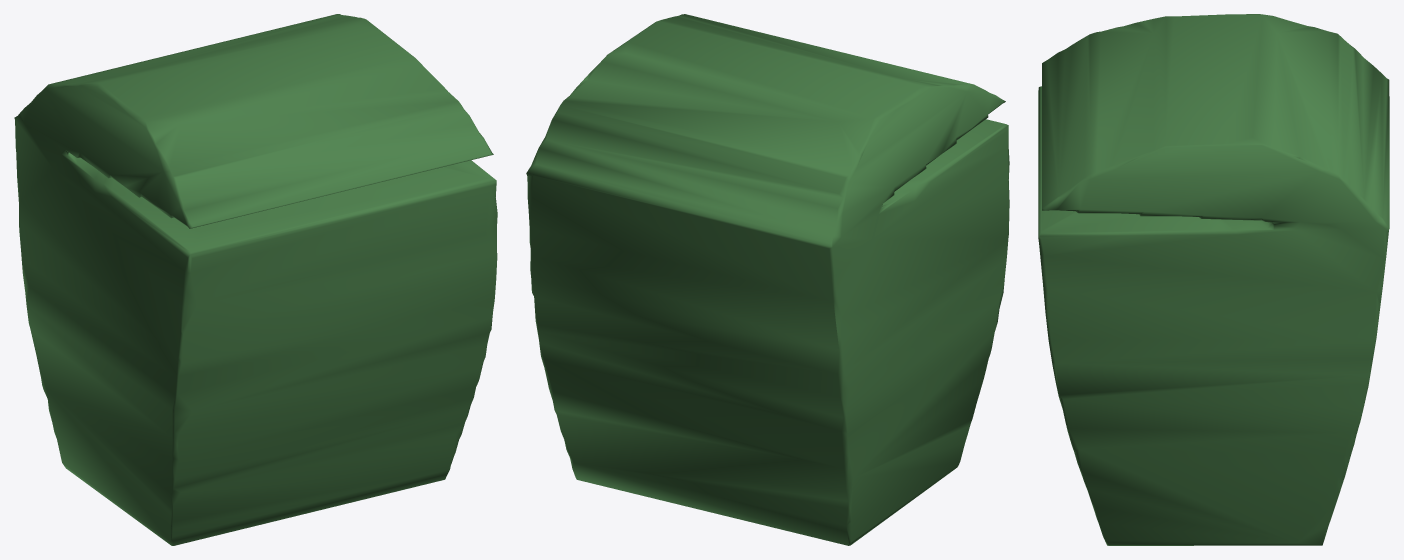
Rendered from trash2.fbx.
3 renders of one model, left to right at view 1: azimuth 30°, elevation 25°; view 2: azimuth 150°, elevation 25°; view 3: azimuth 270°, elevation 25°, orthographic.
Visible parts, largest first — view 1: Куб; view 2: Куб; view 3: Куб.
Boxes of the visible parts, box(x1,y1,x2,y2) form: Куб: box(14, 14, 497, 545); Куб: box(526, 14, 1009, 545); Куб: box(1038, 14, 1389, 545).
Size of the model in its own units: 206 by 251 by 199.
